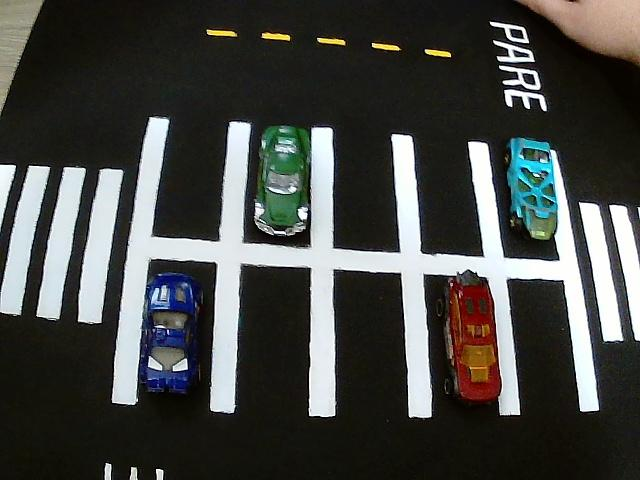Carro: (140, 267, 207, 399), (447, 272, 503, 408), (255, 126, 311, 240), (506, 136, 564, 244)
